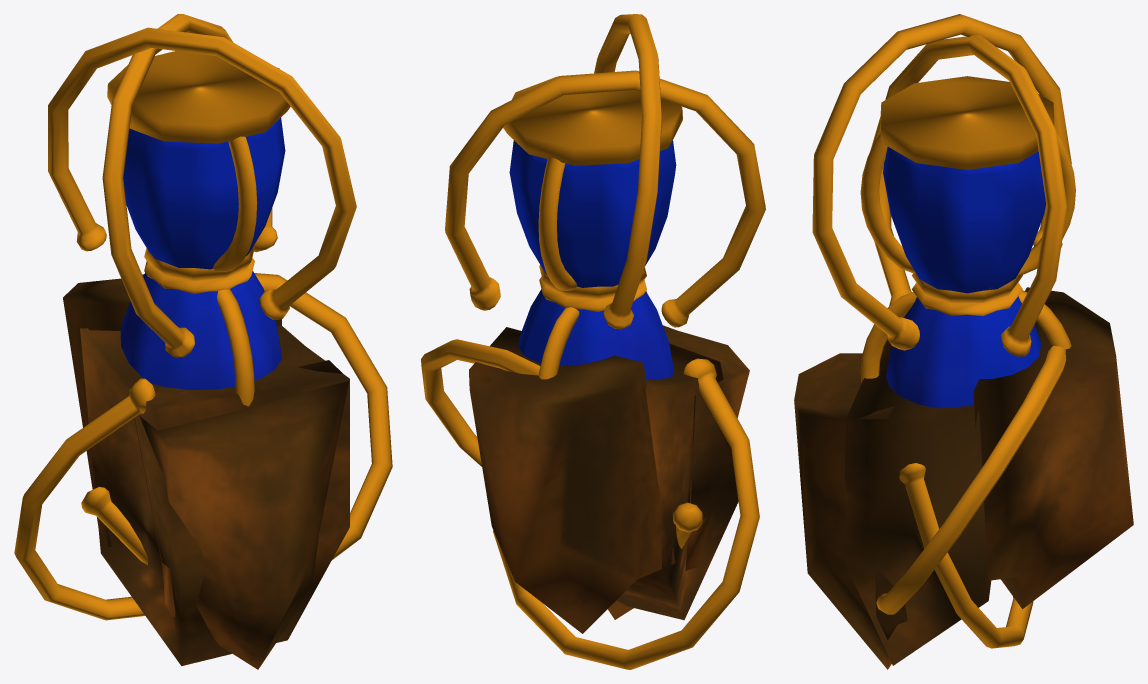
The model's file is sandclock_broken.fbx.
The picture shows the model from 3 angles, left to right: view 1: azimuth 30°, elevation 25°; view 2: azimuth 150°, elevation 25°; view 3: azimuth 270°, elevation 25°; orthographic projection. The views are drawn at different scales.
Visible parts, largest first — view 1: sandclock_broken; view 2: sandclock_broken; view 3: sandclock_broken.
Part boxes in pixels (bbox=[...]): sandclock_broken: bbox=[14, 14, 392, 669]; sandclock_broken: bbox=[421, 14, 765, 669]; sandclock_broken: bbox=[794, 14, 1133, 669].
Bounding box in the file's own units: 152 × 262 × 129.
